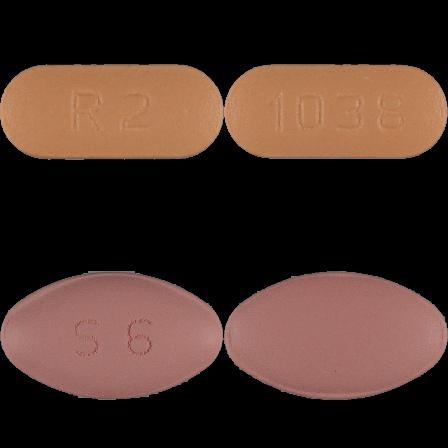52959-941: (0, 0, 224, 224)
